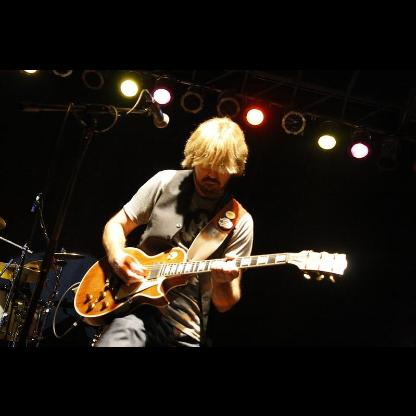guitar: (75, 245, 349, 328)
